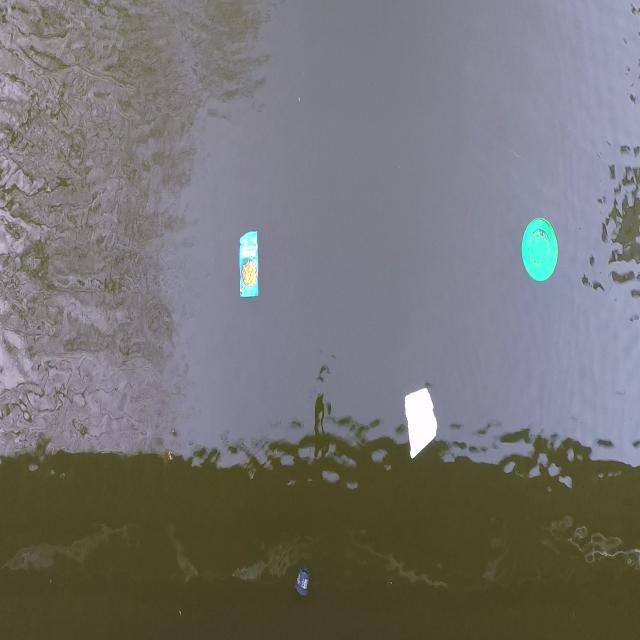Autre plastique: (518, 212, 564, 290), (233, 222, 264, 307), (293, 565, 317, 601)
